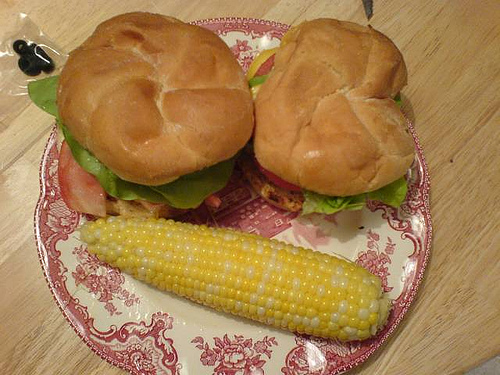corn: (74, 214, 392, 342)
